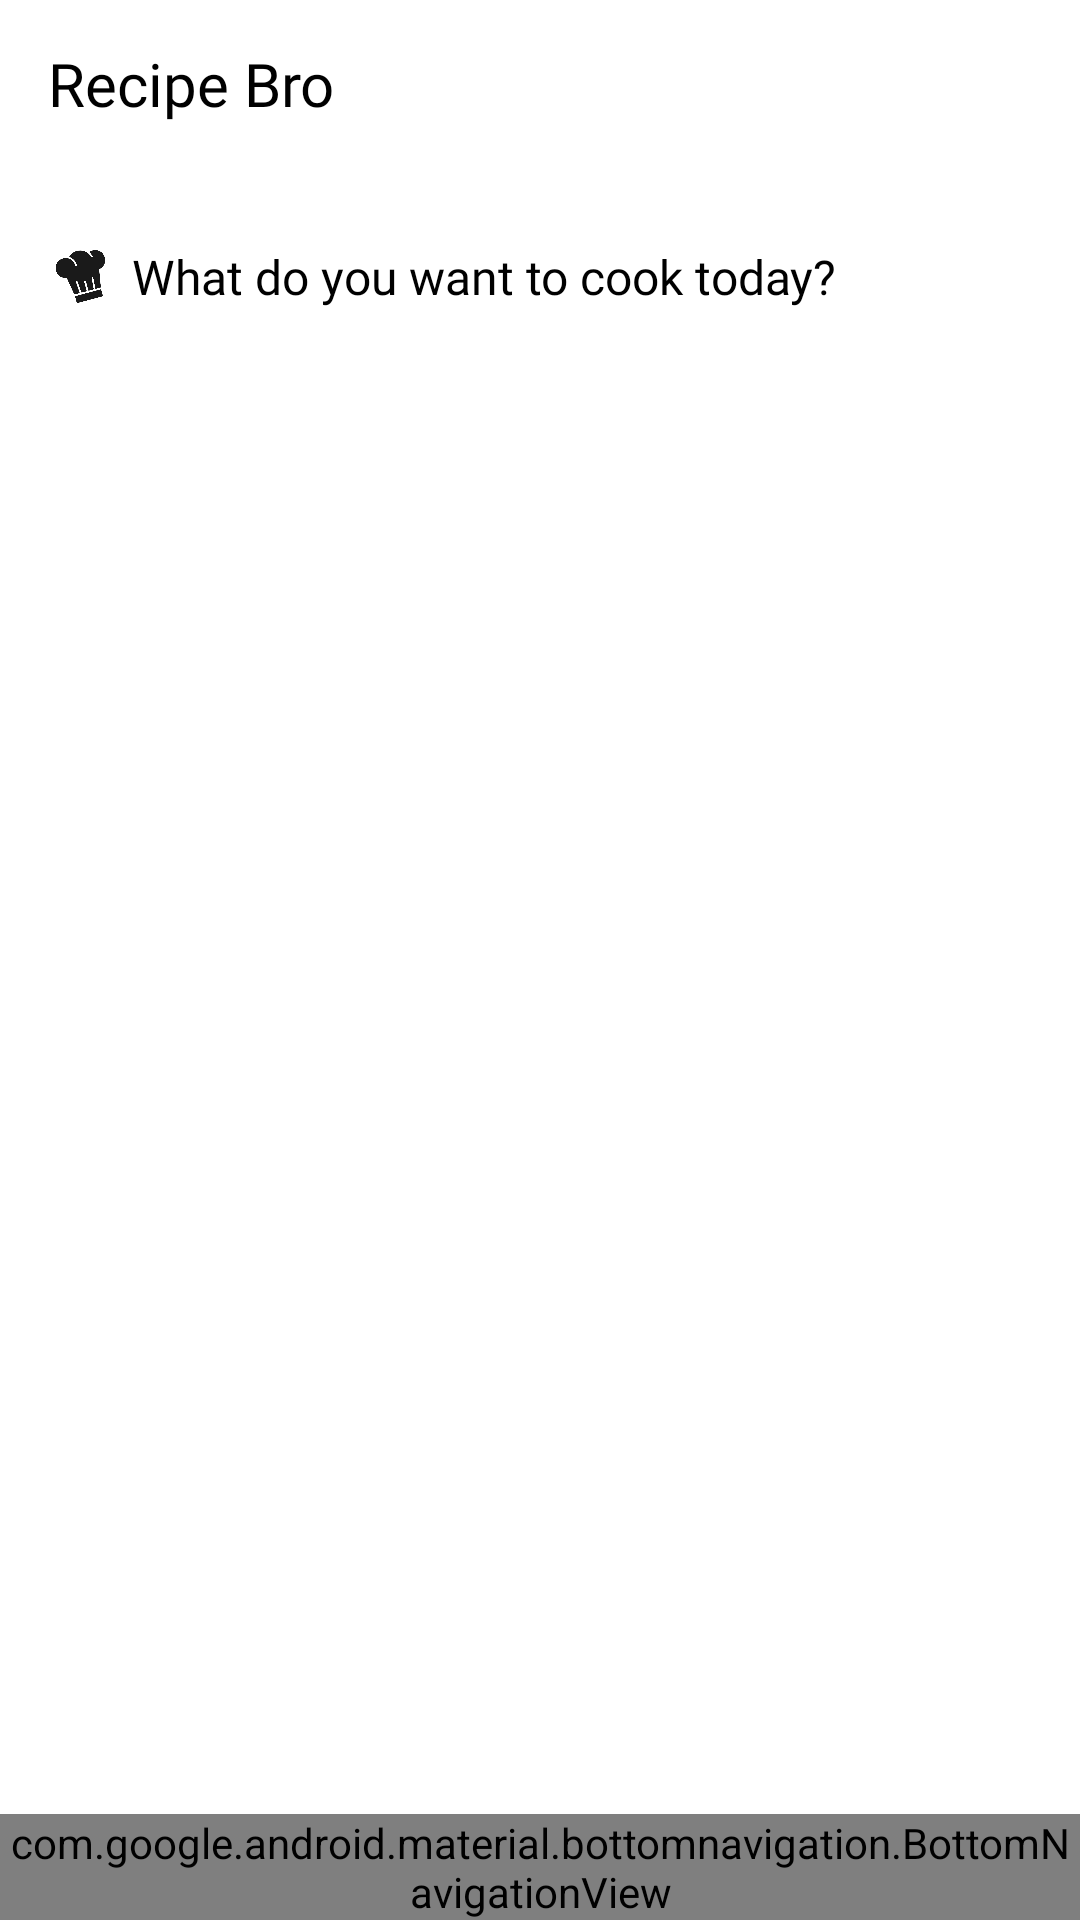

Screen size 1080*1920. Icon name, then its center in pixels as (x,y):
chef: (80,276)
